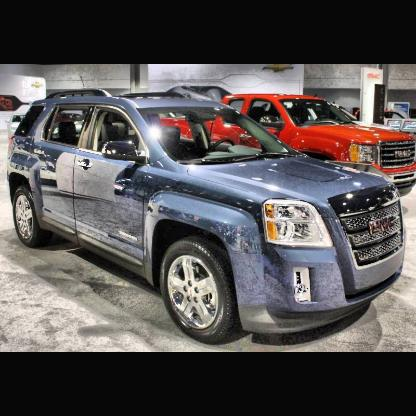GMC Terrain SUV 2012: (8, 87, 408, 343)
